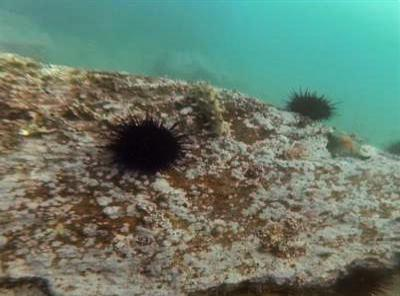urchin: (105, 116, 185, 173), (283, 86, 338, 120)
